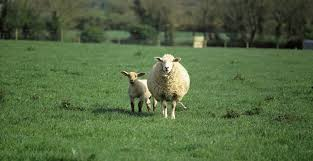sheep: (149, 54, 188, 119), (124, 69, 148, 114)
